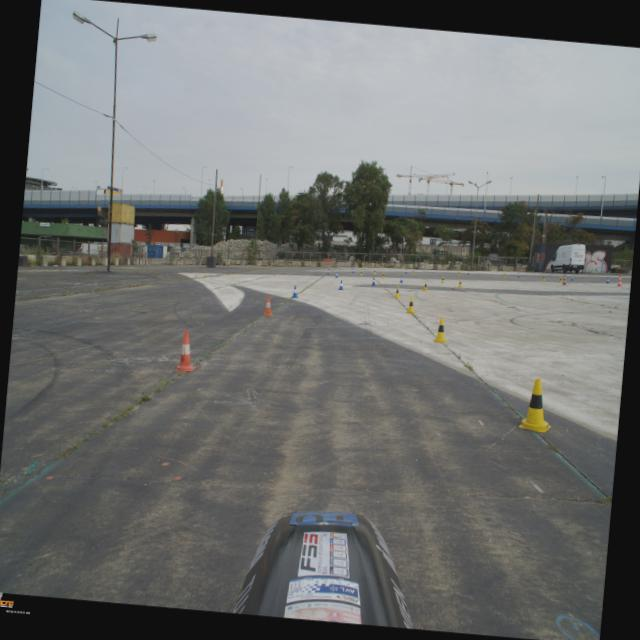blue_cone: (290, 284, 300, 298), (338, 280, 344, 290), (370, 276, 376, 286), (399, 275, 404, 283), (605, 277, 610, 283), (334, 272, 338, 278), (516, 272, 520, 278), (404, 268, 407, 274), (326, 269, 329, 274), (466, 270, 469, 274), (570, 276, 573, 280), (352, 268, 354, 273)
large_orange_cone: (616, 275, 622, 286), (562, 274, 568, 284)
orange_cone: (174, 329, 198, 372), (262, 295, 274, 316)
yellow_cone: (518, 377, 555, 432), (433, 316, 448, 343), (405, 296, 416, 314), (394, 286, 401, 298), (422, 281, 429, 291), (458, 279, 462, 287), (440, 276, 445, 282), (381, 272, 385, 278), (542, 274, 546, 280), (558, 276, 562, 282), (373, 269, 376, 274), (457, 271, 460, 276), (502, 273, 505, 278), (360, 270, 362, 276), (411, 270, 414, 274)
